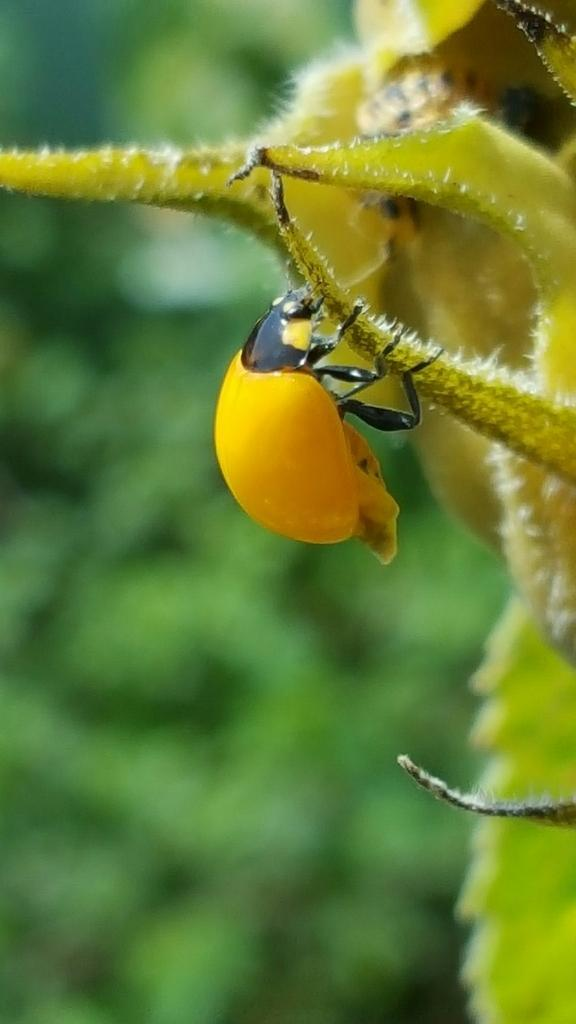ladybug: (211, 256, 454, 569)
